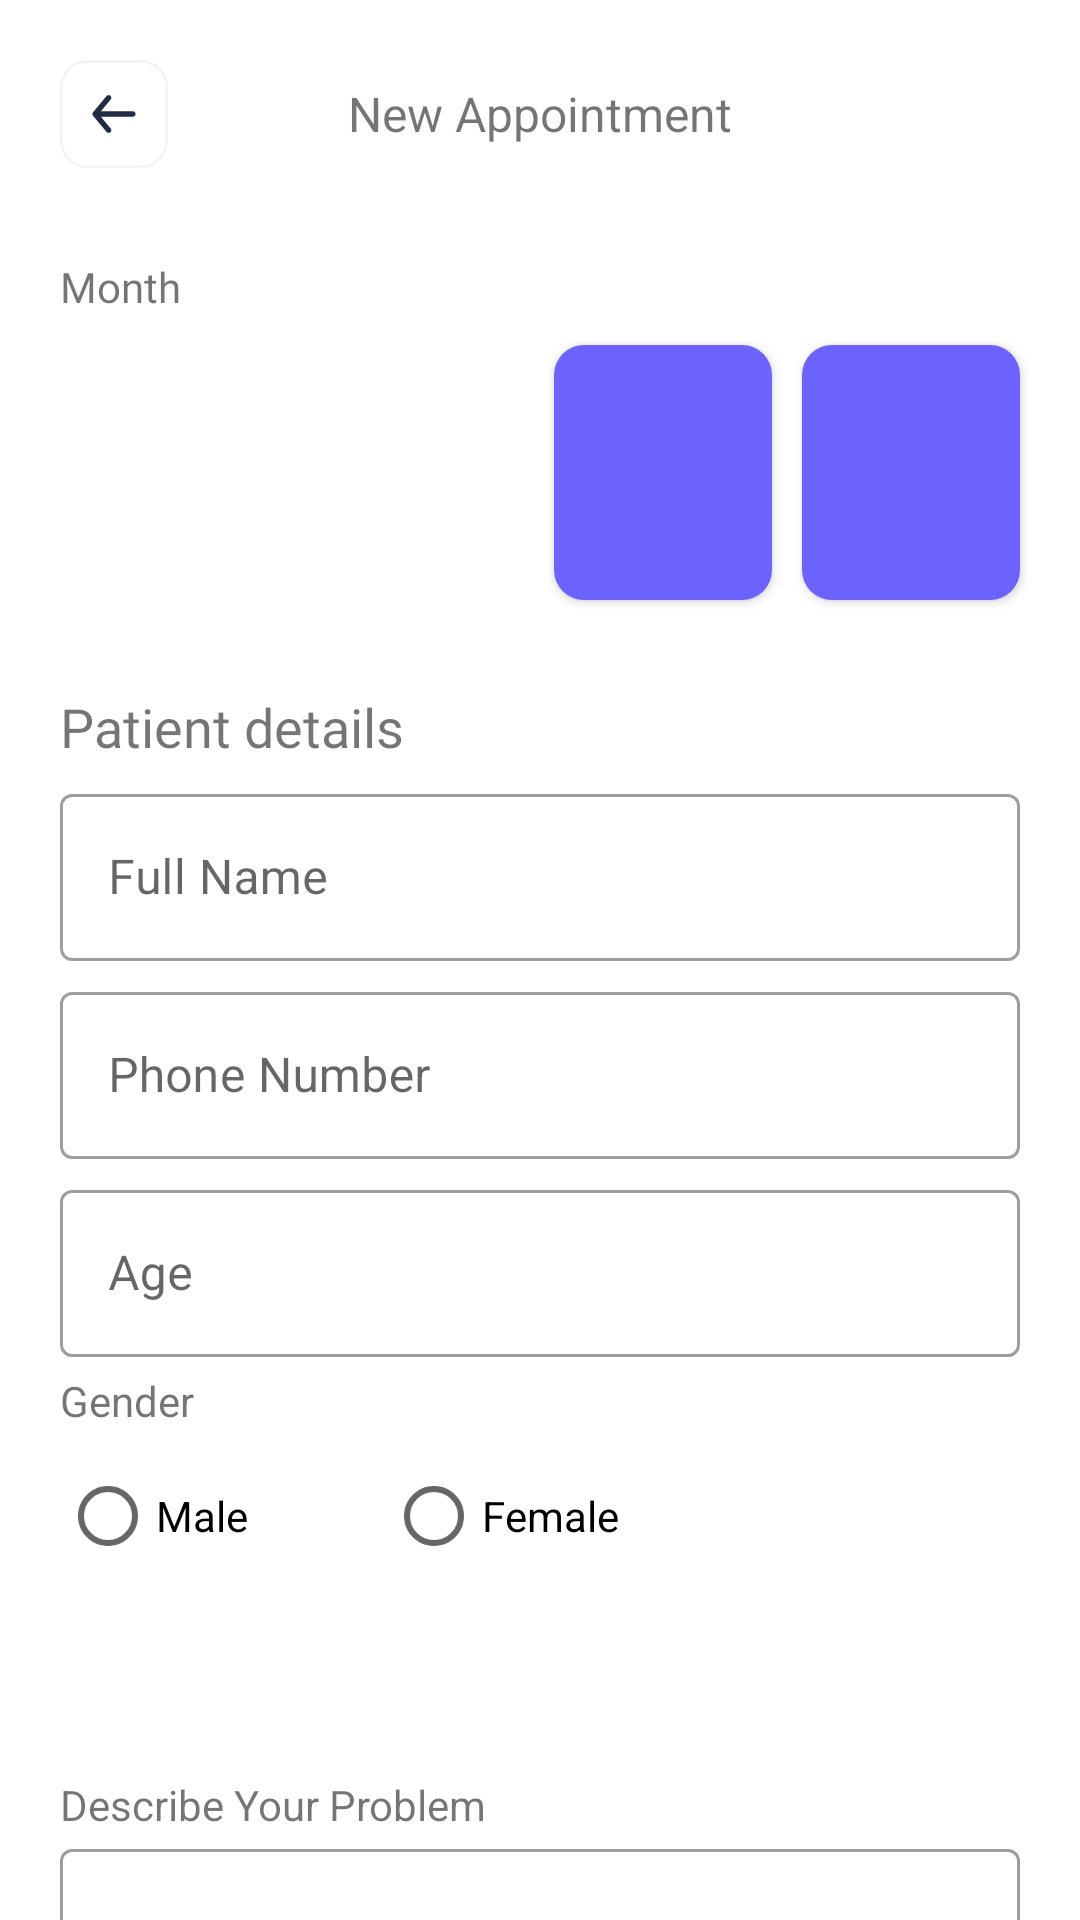

Named icons in this screenshot (1080px x 1920px) and their centers, point (x, y):
back: point (114, 114)
